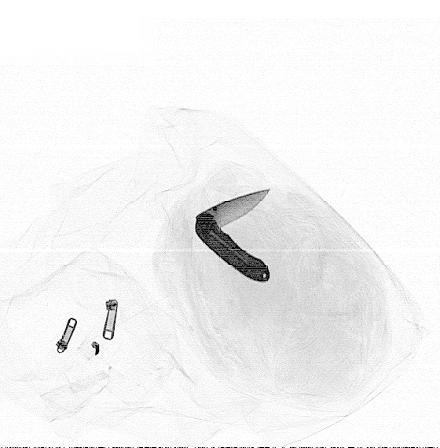Knife: (194, 188, 274, 284)
